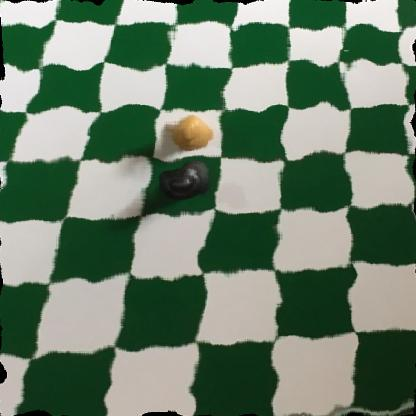black-pawn: (155, 161, 216, 206)
white-pawn: (161, 112, 220, 156)
